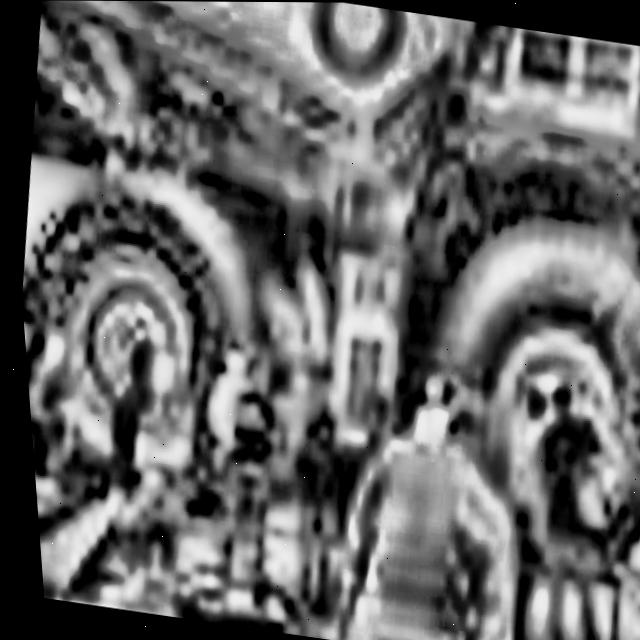dump_truck: (0, 0, 640, 587)
